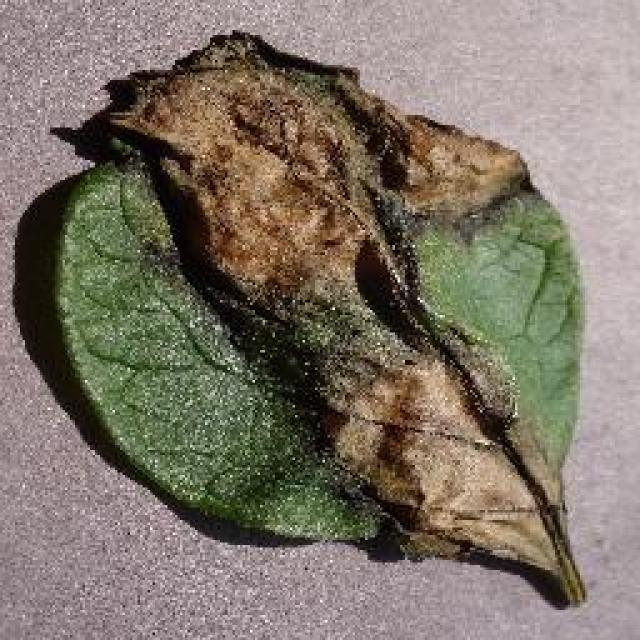green waste: (31, 21, 631, 640)
